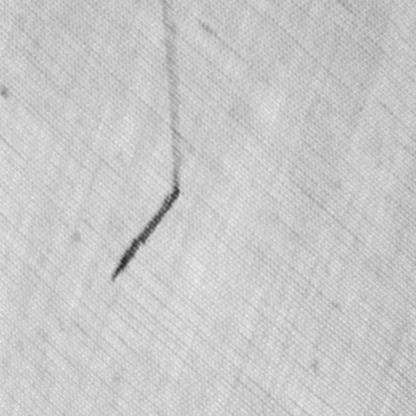oil spot: (108, 186, 180, 288), (158, 1, 184, 188)
